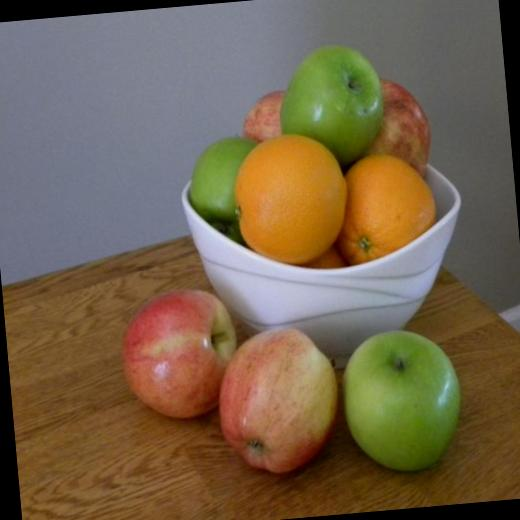Apple: (210, 320, 343, 479), (337, 322, 469, 480), (114, 284, 242, 426), (272, 42, 390, 172), (183, 134, 265, 246), (365, 72, 436, 182), (238, 86, 288, 144)
Grape: (228, 128, 350, 262), (334, 146, 444, 266)
